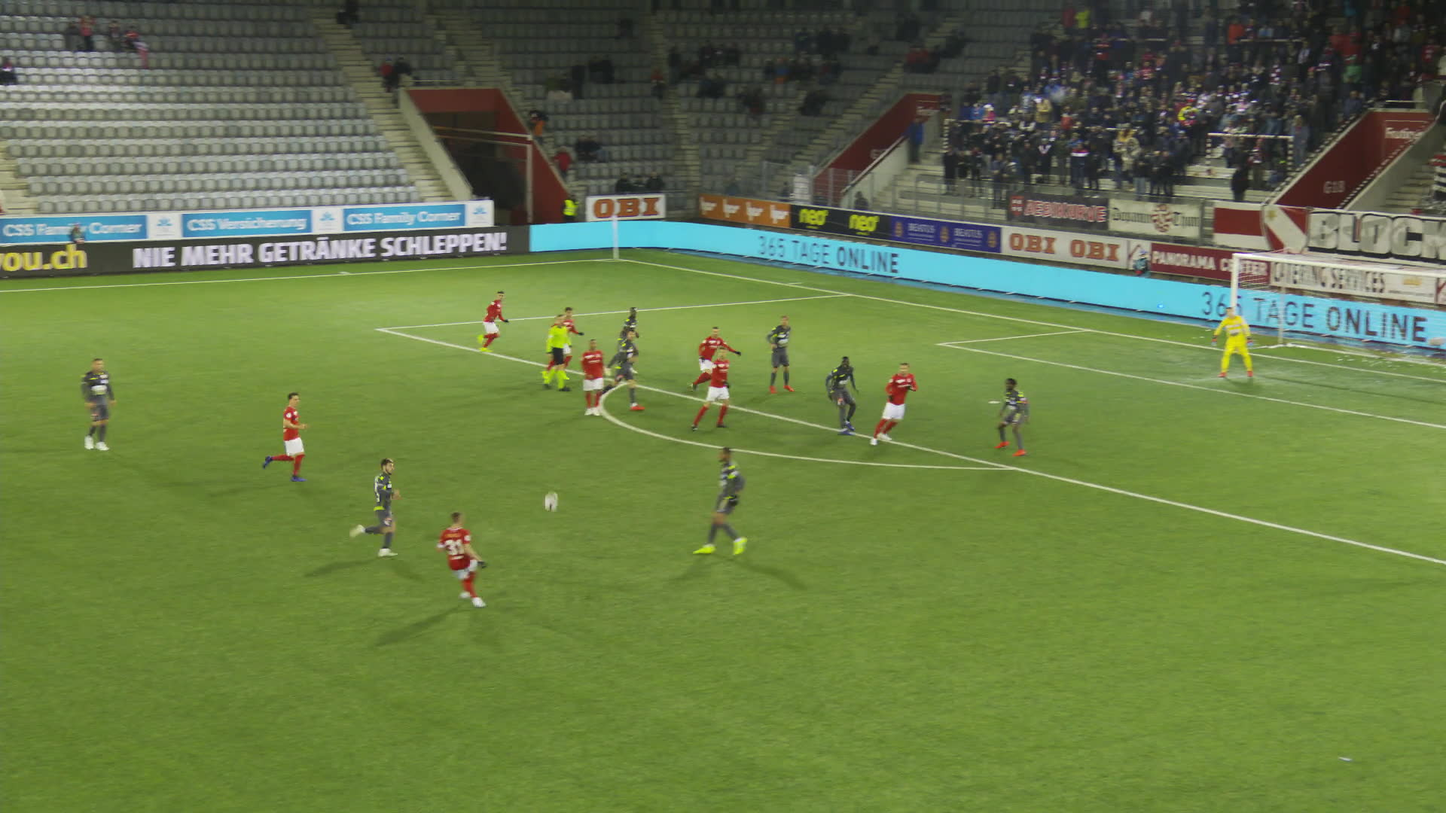ball: (539, 515, 554, 530)
player: (349, 451, 406, 554), (445, 505, 502, 606), (709, 448, 756, 553), (267, 388, 309, 480), (873, 361, 919, 445), (79, 358, 116, 452), (460, 285, 512, 350), (691, 324, 737, 394), (605, 328, 644, 409), (1213, 308, 1254, 379), (763, 316, 798, 392), (999, 376, 1033, 454), (828, 354, 862, 431), (700, 346, 731, 428), (583, 340, 611, 416), (550, 309, 580, 379), (610, 306, 644, 366)
referee: (553, 312, 581, 391)
